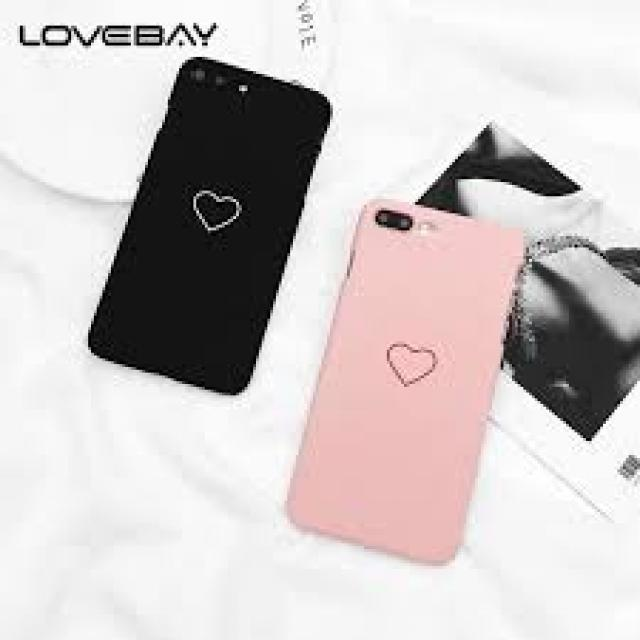Mobile: (292, 165, 548, 582), (93, 34, 339, 408)
